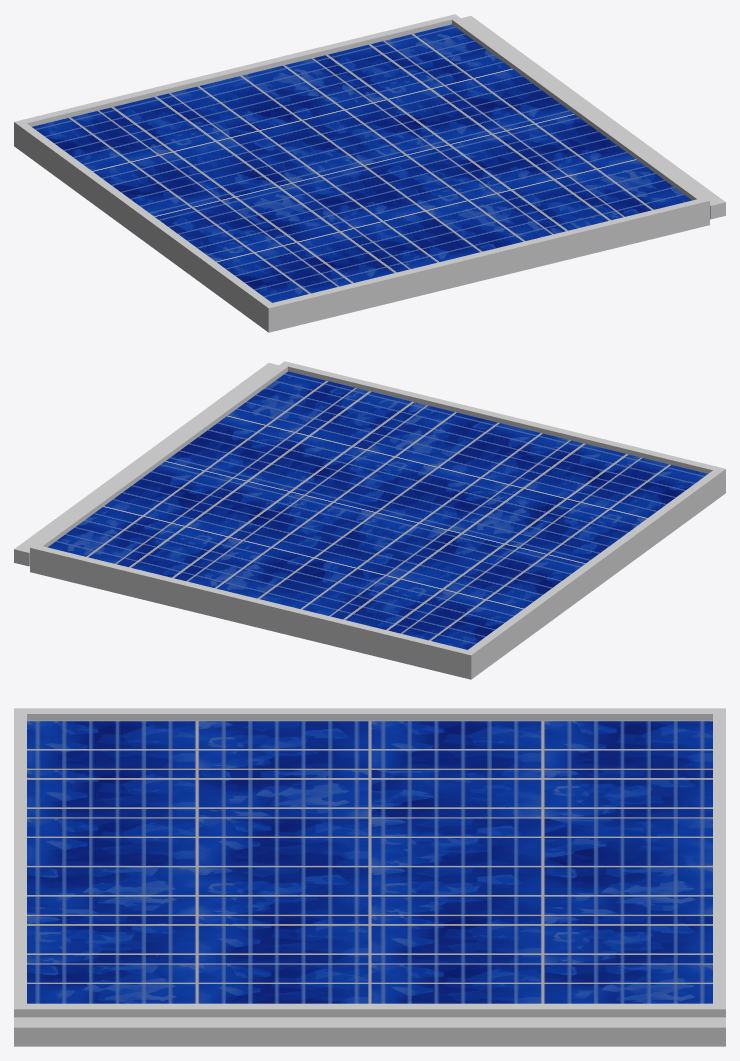
Rendered from solar_panel.glb.
3 renders of one model, top to bottom at view 1: azimuth 30°, elevation 25°; view 2: azimuth 150°, elevation 25°; view 3: azimuth 270°, elevation 25°, orthographic. The views are drawn at different scales.
Parts seen in each view (by area): view 1: Solar Panel; view 2: Solar Panel; view 3: Solar Panel.
Boxes of the visible parts, <box> form: Solar Panel: <box>14,14,725,332</box>; Solar Panel: <box>14,361,725,679</box>; Solar Panel: <box>14,708,725,1046</box>.
Size of the model in its own units: 2.07 by 0.1056 by 2.
Materials: 2 (1 with a texture image).
